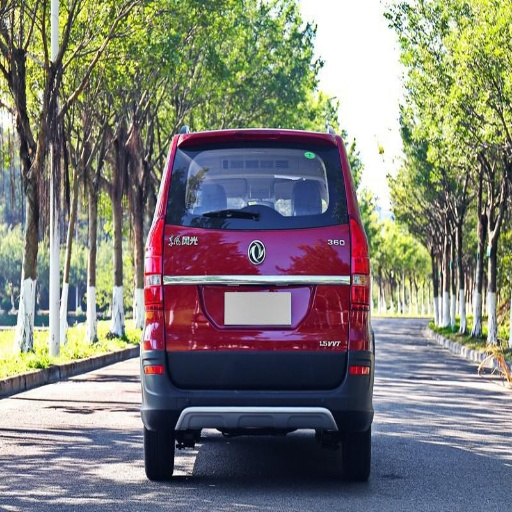back_bumper: (141, 312, 372, 429)
trunk: (164, 221, 353, 388)
